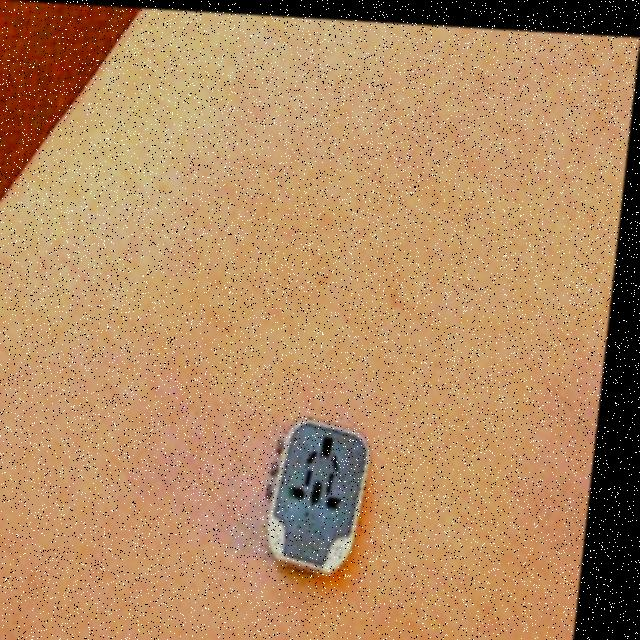adapter: (270, 410, 384, 573)
